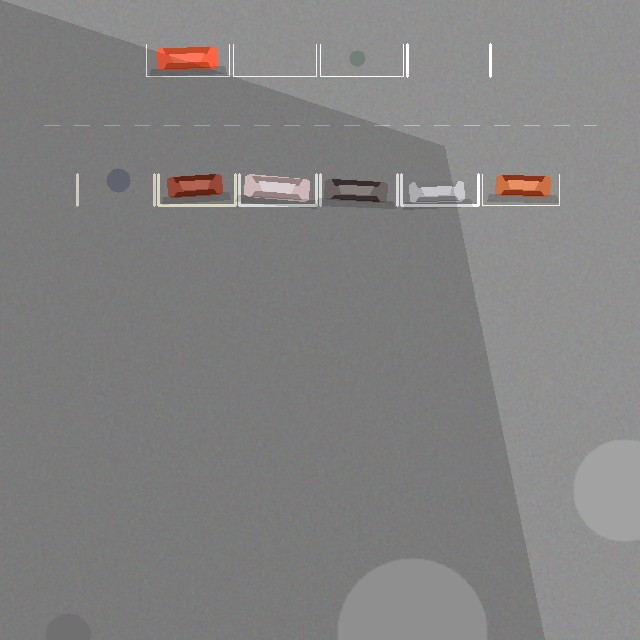space-empty: (233, 44, 316, 76), (320, 44, 403, 76), (407, 44, 490, 76), (77, 174, 154, 205)
space-occupied: (146, 44, 229, 76), (158, 174, 235, 205), (239, 174, 316, 205), (320, 174, 397, 205), (401, 174, 478, 205), (482, 174, 559, 205)
